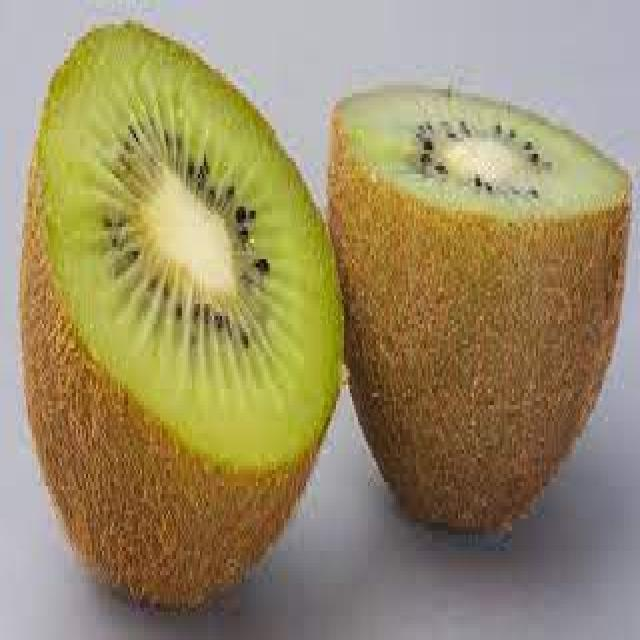kiwi: (16, 20, 340, 616), (344, 77, 634, 539)
